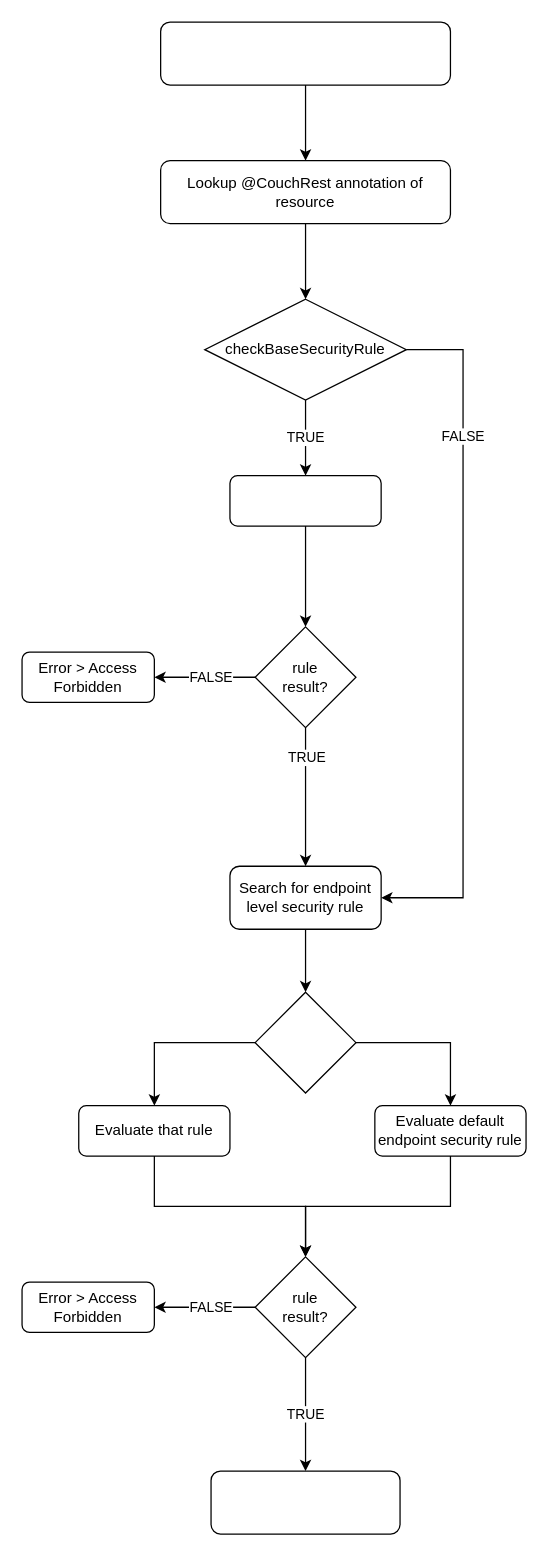
The diagram is 548 pixels wide and 1556 high, and some of its shapes have lost their labels. Here are the shapes that lost their labels. From the top down, the centre of each, then its label:
the point at 304,53: Method for endpoint/request has been found
the point at 305,500: Evaluate base security rule
the point at 305,1042: has individual rule?
the point at 305,1502: Execute endpoint and return result
